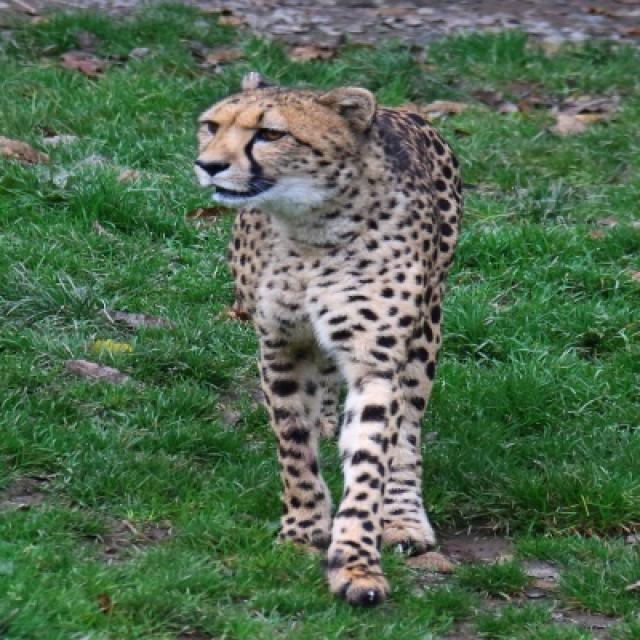Cheetah: (194, 85, 464, 611)
